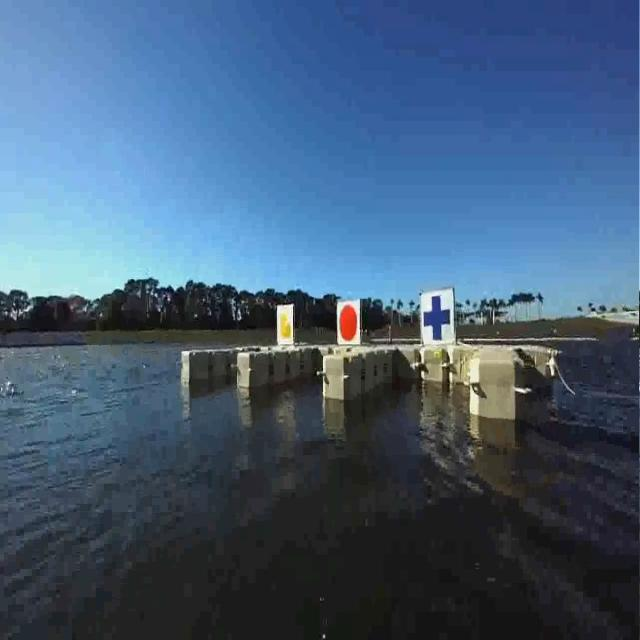blue-cross: (422, 290, 455, 342)
red-dot: (337, 300, 361, 344)
yellow-duck: (277, 307, 293, 344)
